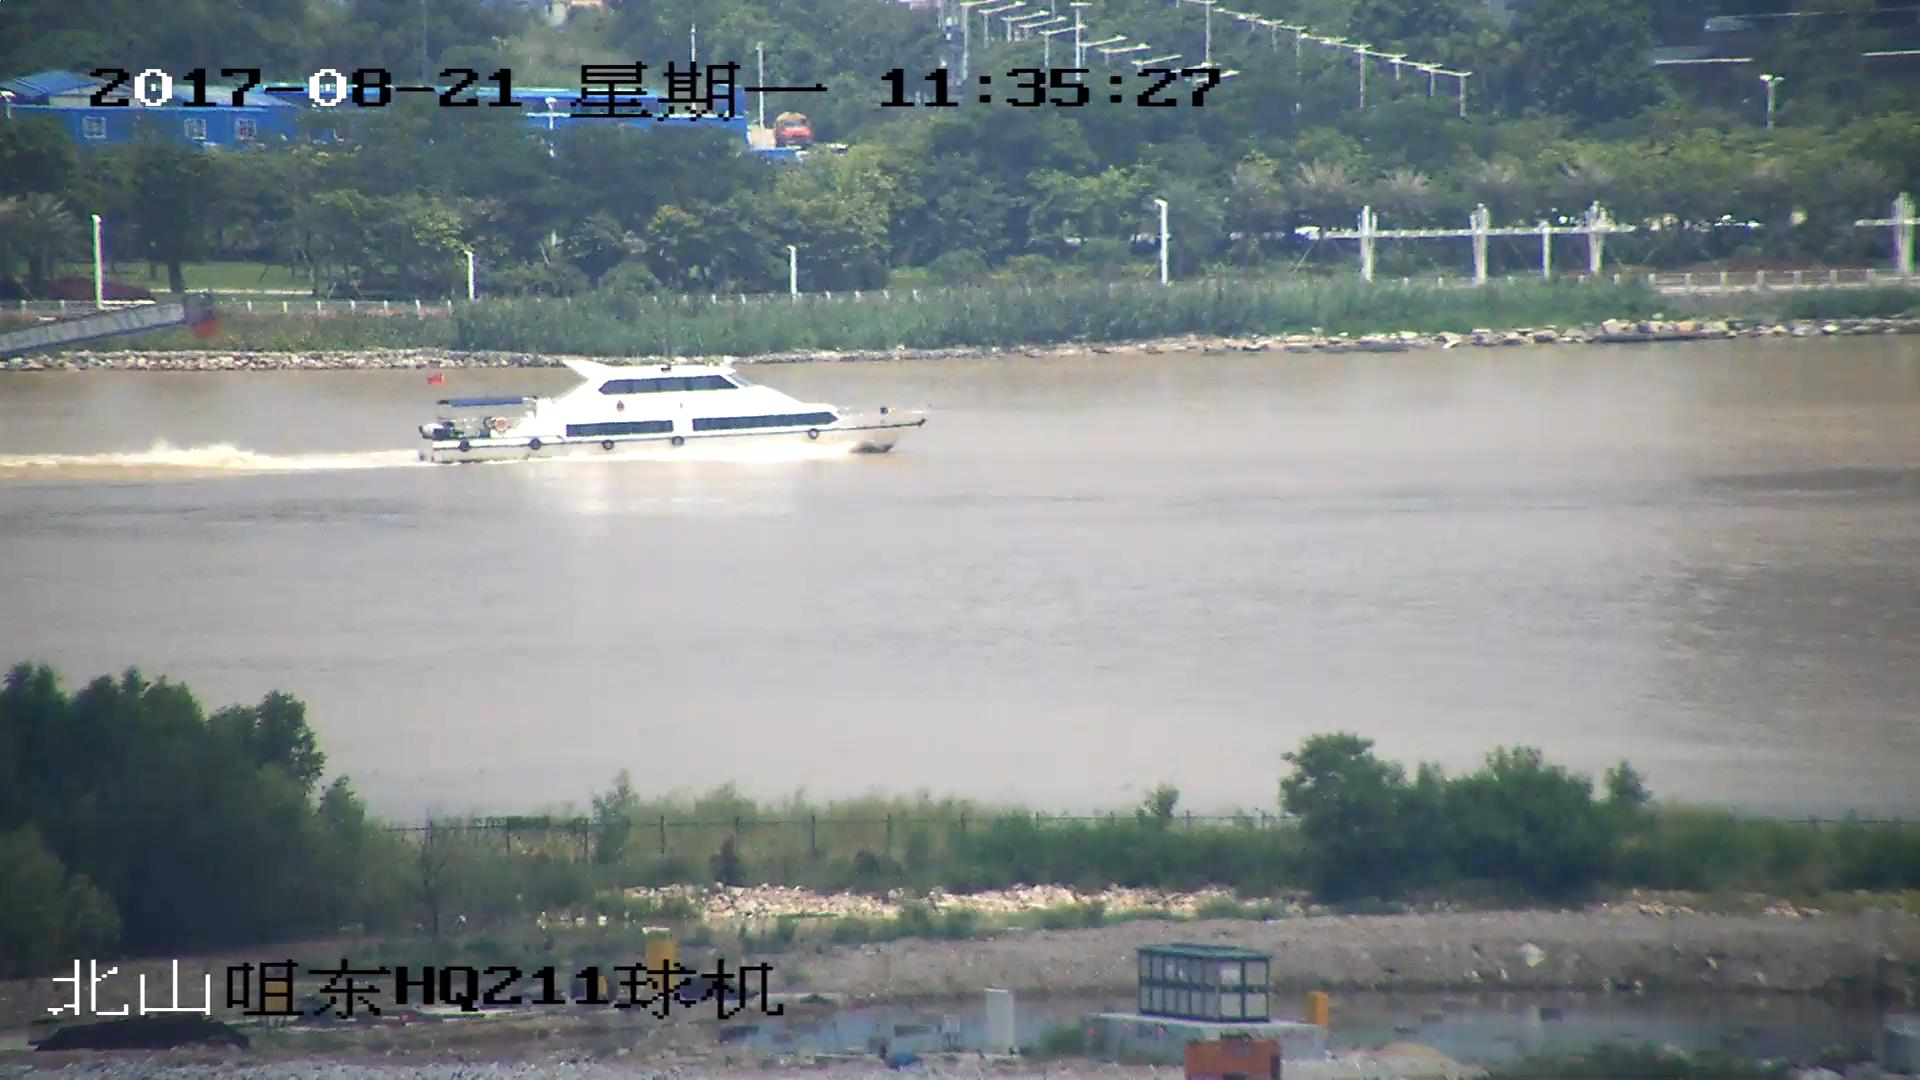passenger ship: (410, 353, 926, 471)
